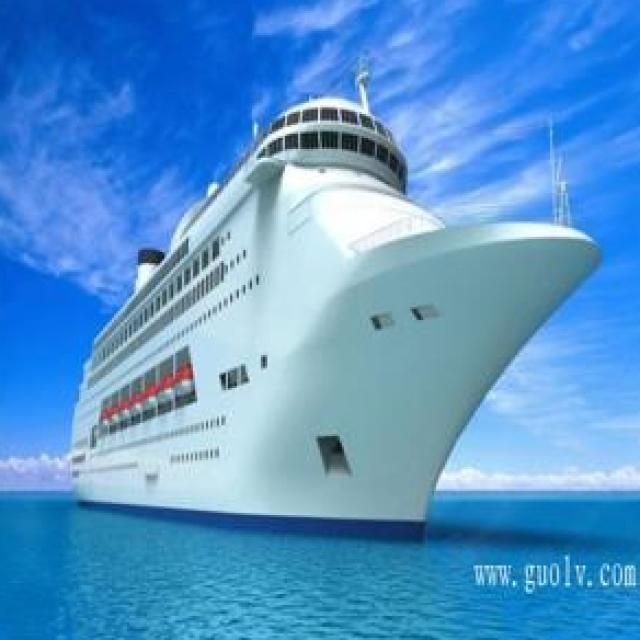passenger ship: (66, 94, 595, 533)
